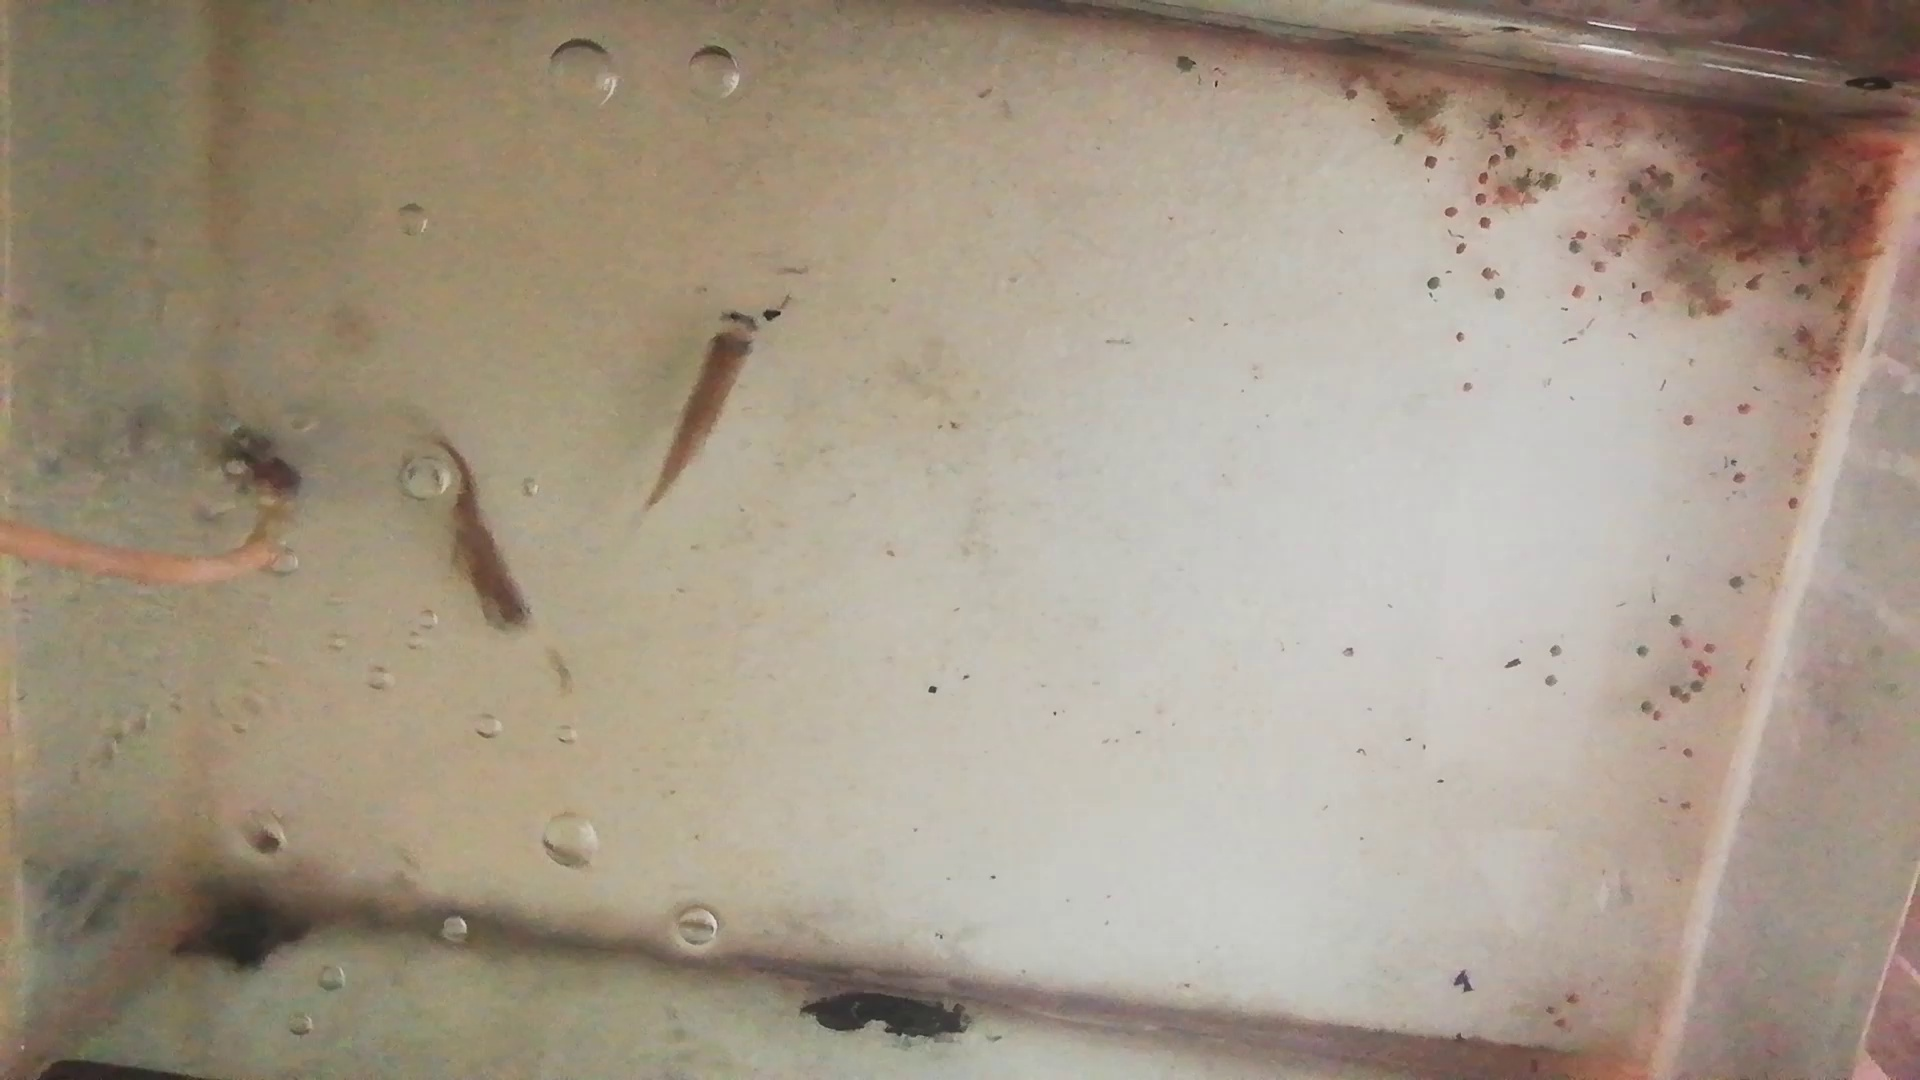fish: (646, 323, 756, 516), (431, 436, 535, 636)
